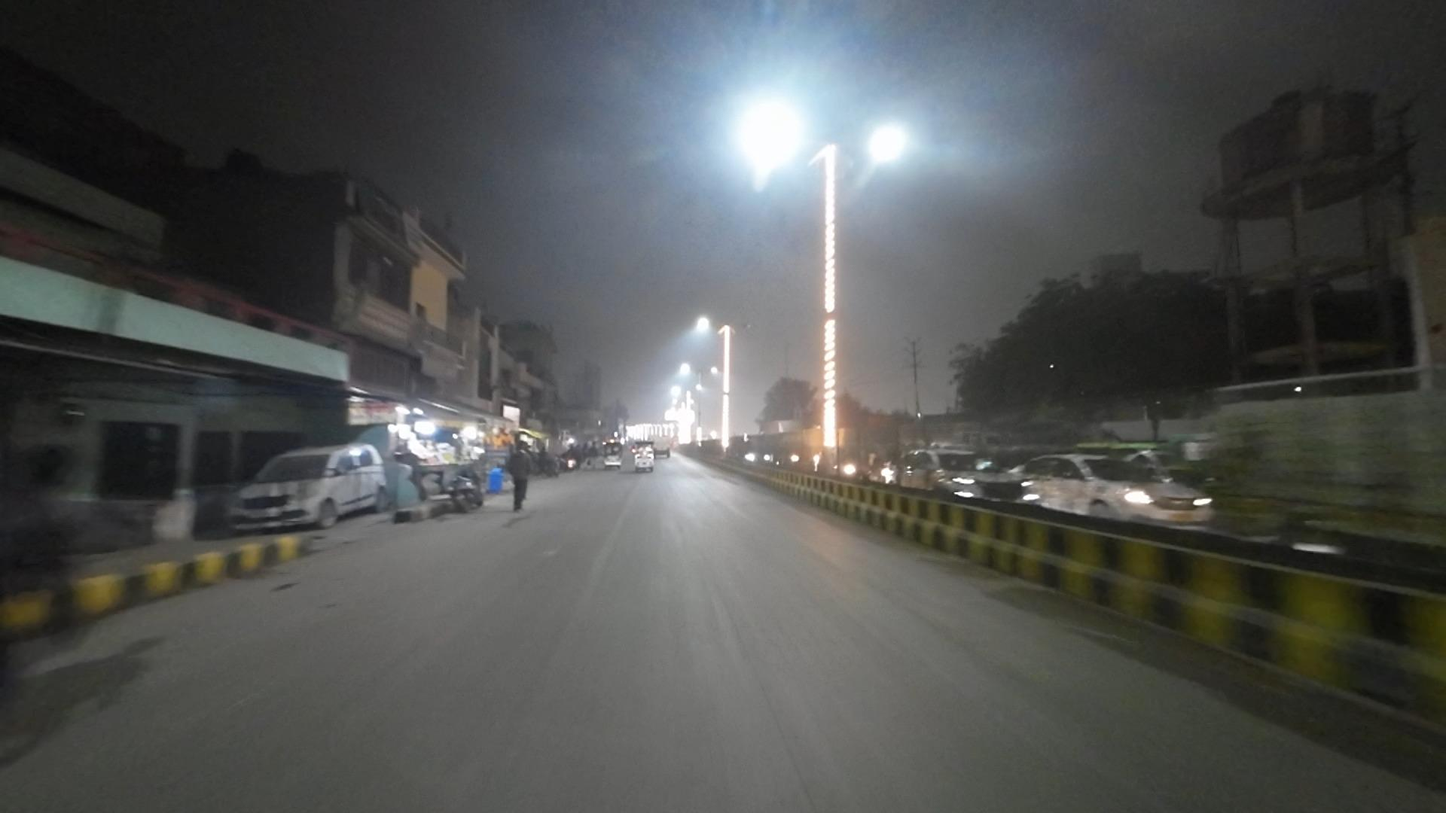streetlight: (729, 323, 754, 333)
